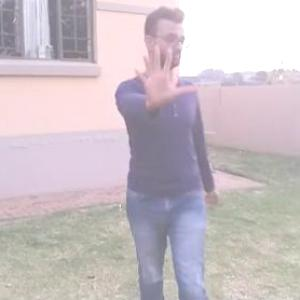follow_hand: (130, 40, 198, 110)
